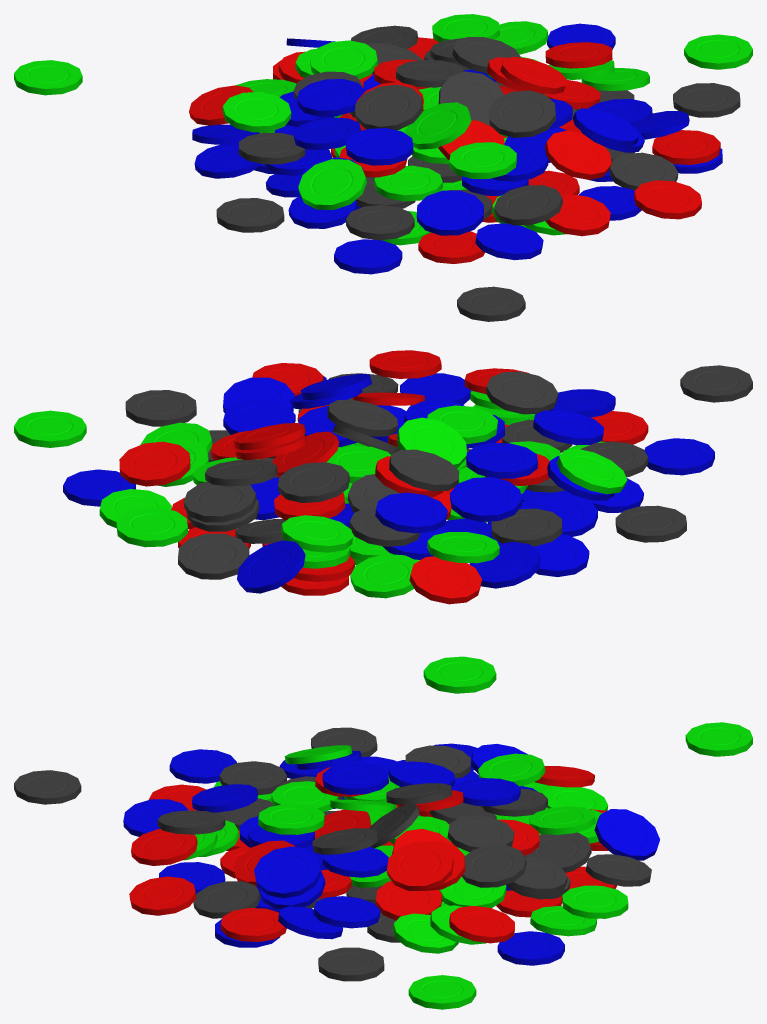
Rendered from PokerChip_p3.fbx.
3 views of the same model, one above another, from view 1: azimuth 30°, elevation 25°; view 2: azimuth 150°, elevation 25°; view 3: azimuth 270°, elevation 25° (orthographic). The views are drawn at different scales.
Parts seen in each view (by area): view 1: PokerChip_p3; view 2: PokerChip_p3; view 3: PokerChip_p3.
Part boxes in pixels (left/top/right/bottom): PokerChip_p3: left=14, top=14, right=752, bottom=321; PokerChip_p3: left=14, top=350, right=752, bottom=693; PokerChip_p3: left=14, top=722, right=752, bottom=1009.
Size of the model in its own units: 247 by 23.69 by 274.
